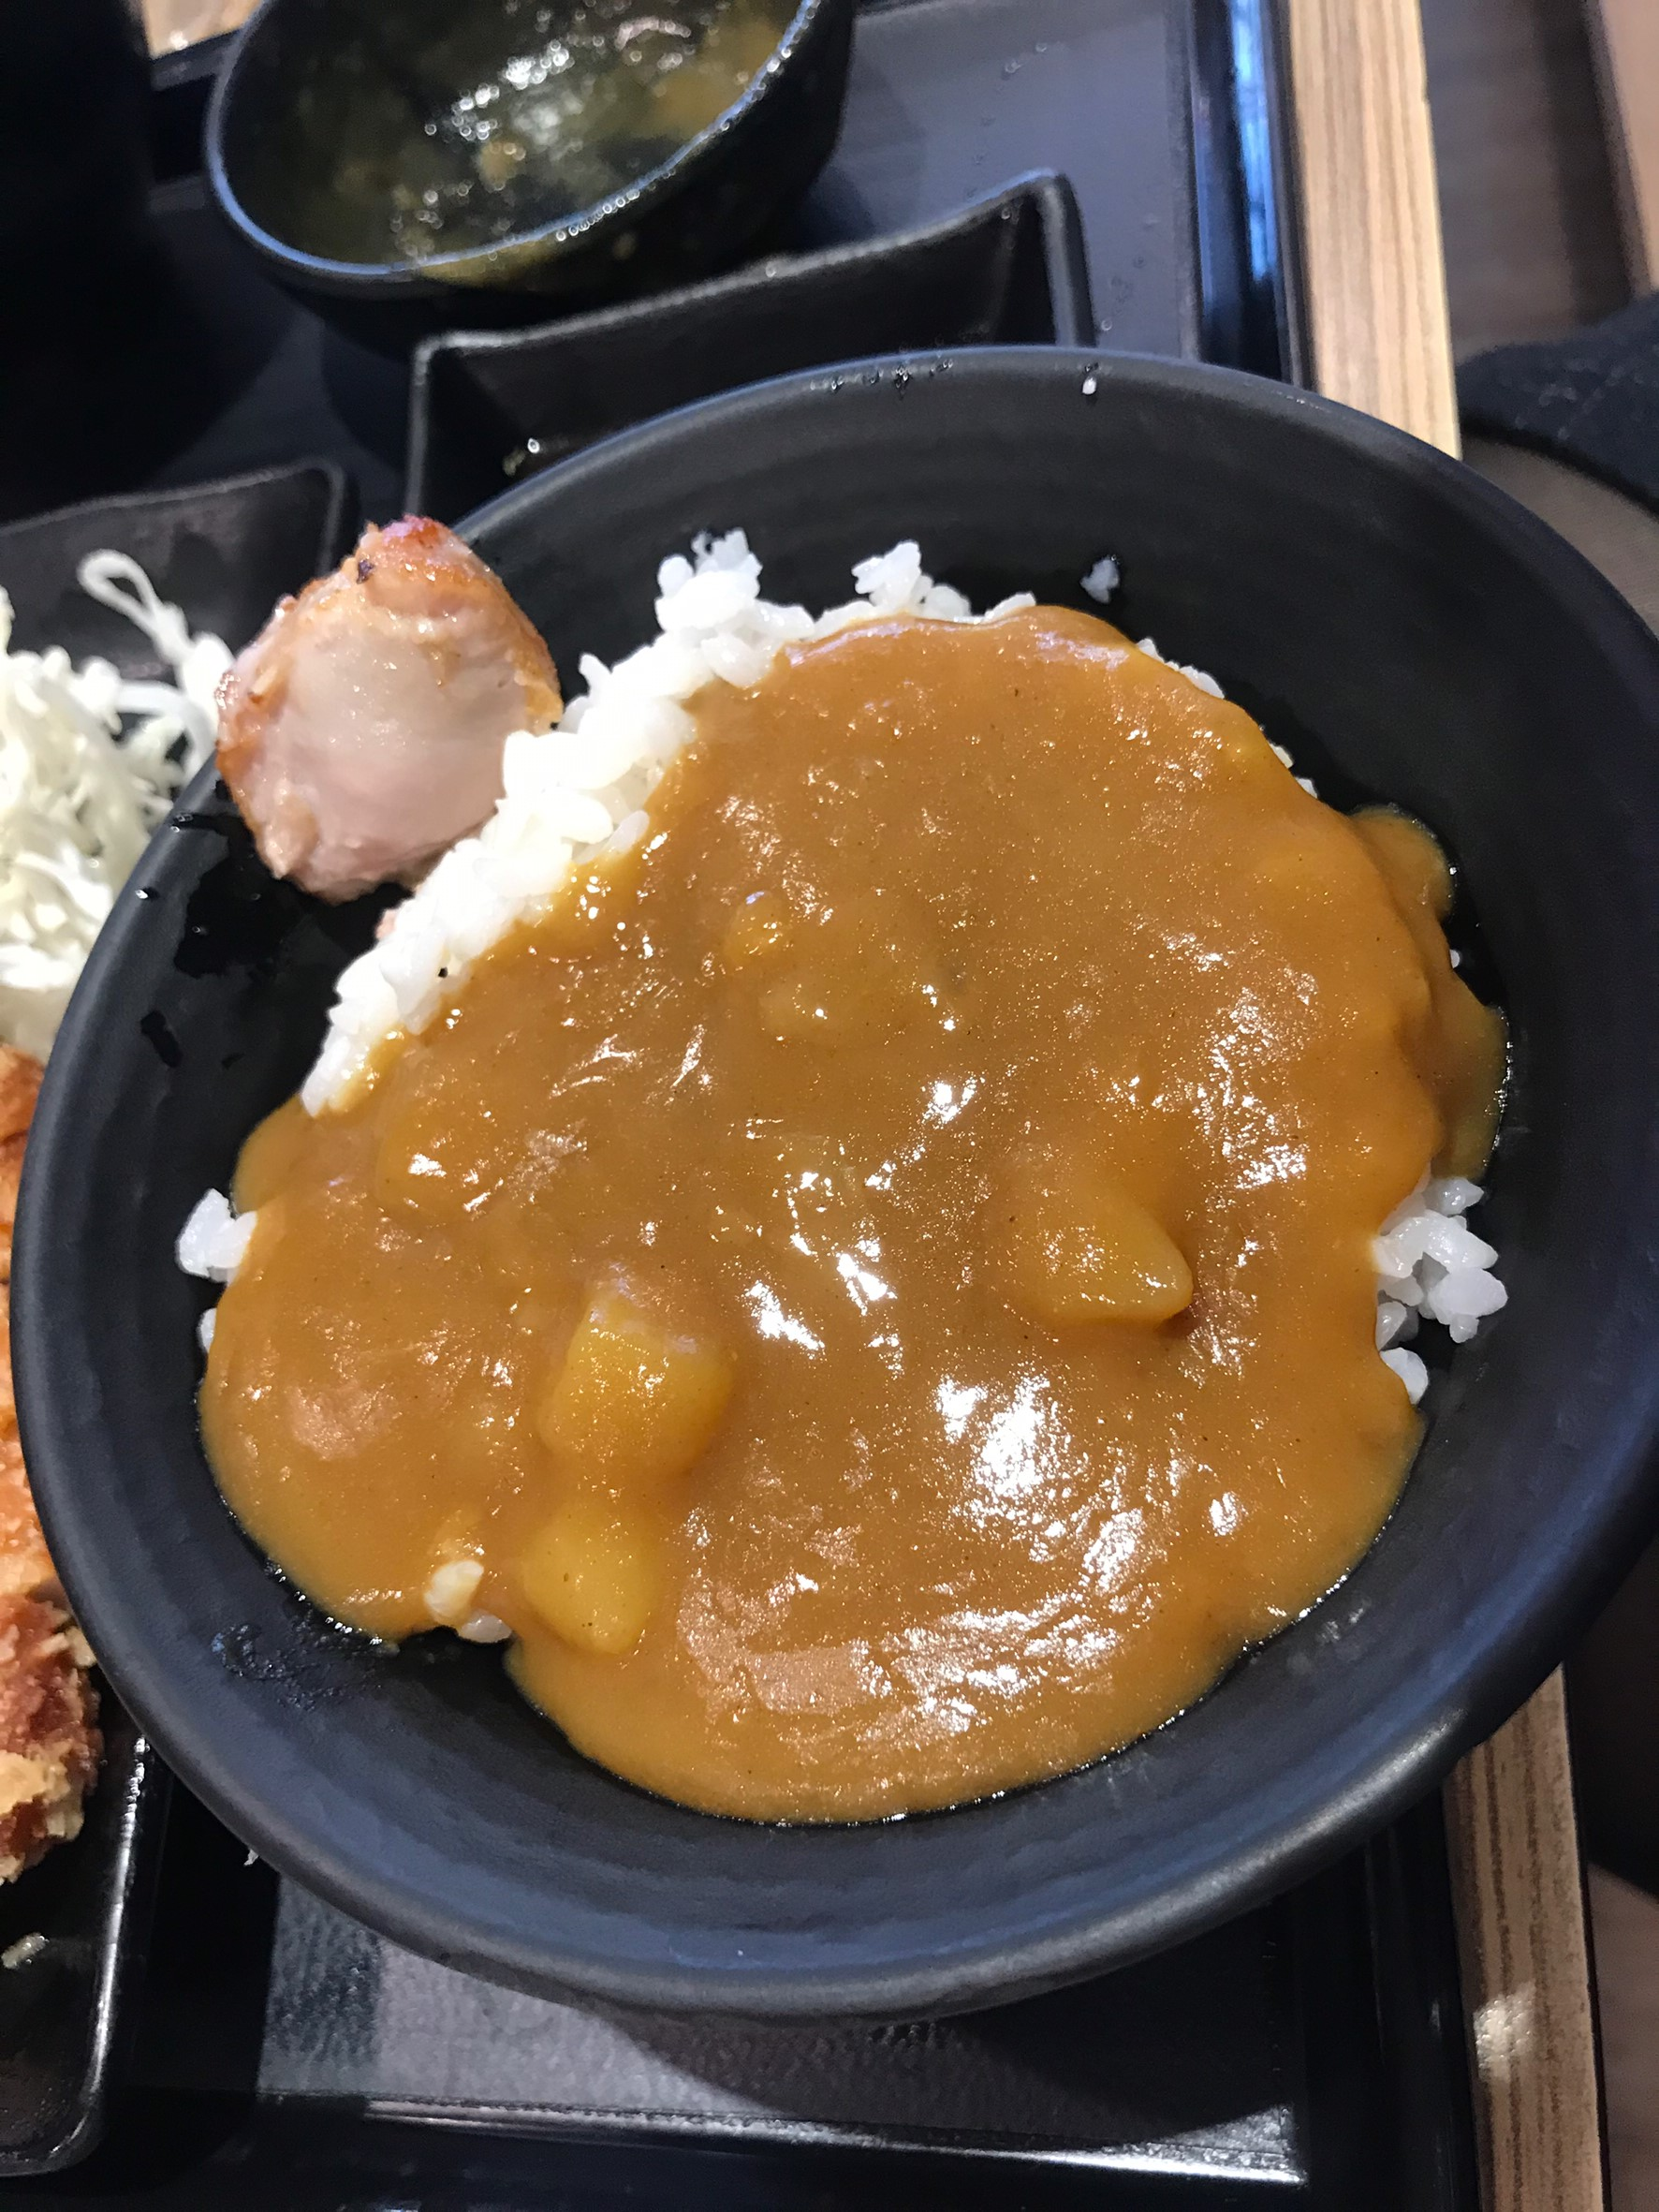curry: (336, 631, 1345, 1740)
